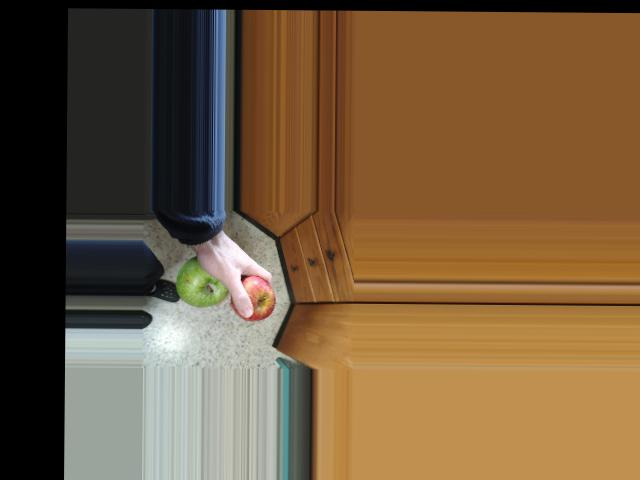apple: (172, 251, 231, 310)
